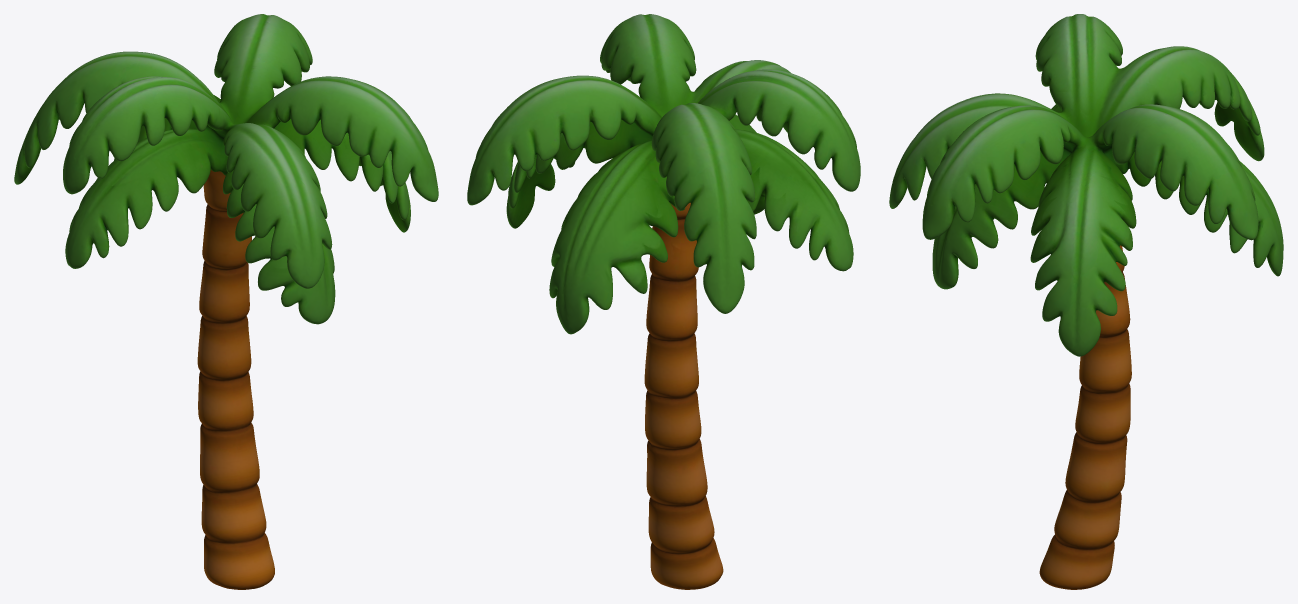
3 views of the same model, side by side, from view 1: azimuth 30°, elevation 25°; view 2: azimuth 150°, elevation 25°; view 3: azimuth 270°, elevation 25° (orthographic). The views are drawn at different scales.
Visible parts, largest first — view 1: tripo_node_ea82f633-645e-460e-82b1-20cac597b05c_1; view 2: tripo_node_ea82f633-645e-460e-82b1-20cac597b05c_1; view 3: tripo_node_ea82f633-645e-460e-82b1-20cac597b05c_1.
Boxes of the visible parts, left/top/right/bottom form: tripo_node_ea82f633-645e-460e-82b1-20cac597b05c_1: left=14, top=14, right=438, bottom=589; tripo_node_ea82f633-645e-460e-82b1-20cac597b05c_1: left=467, top=14, right=860, bottom=589; tripo_node_ea82f633-645e-460e-82b1-20cac597b05c_1: left=889, top=14, right=1283, bottom=589.
Size of the model in its own units: 2.46 by 3.59 by 2.5.
Materials: 1 (1 with a texture image).
